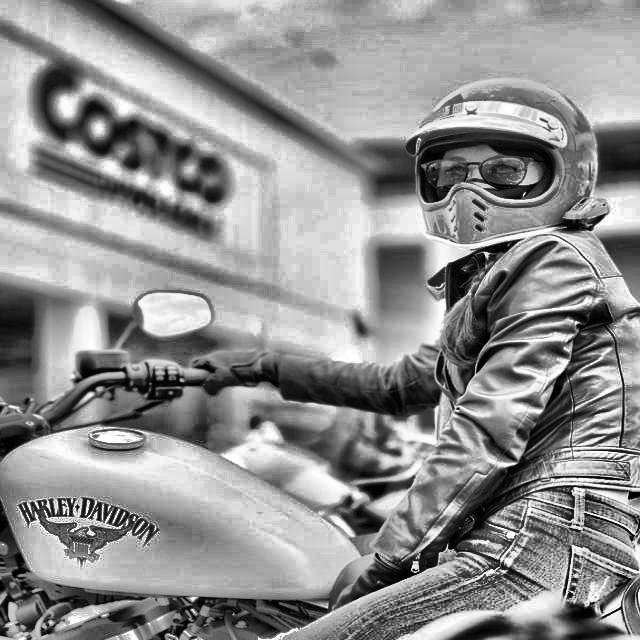Helmet: (397, 74, 610, 253)
